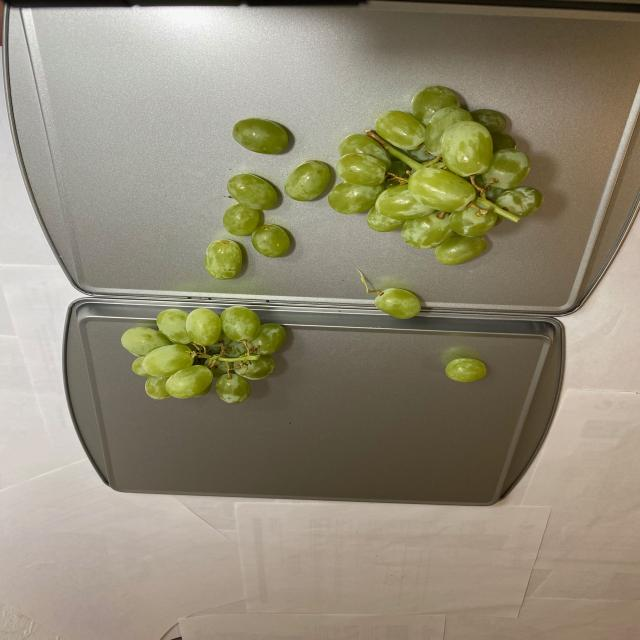grapes: (206, 86, 545, 279), (118, 306, 292, 406), (362, 286, 434, 320), (439, 357, 491, 382)
